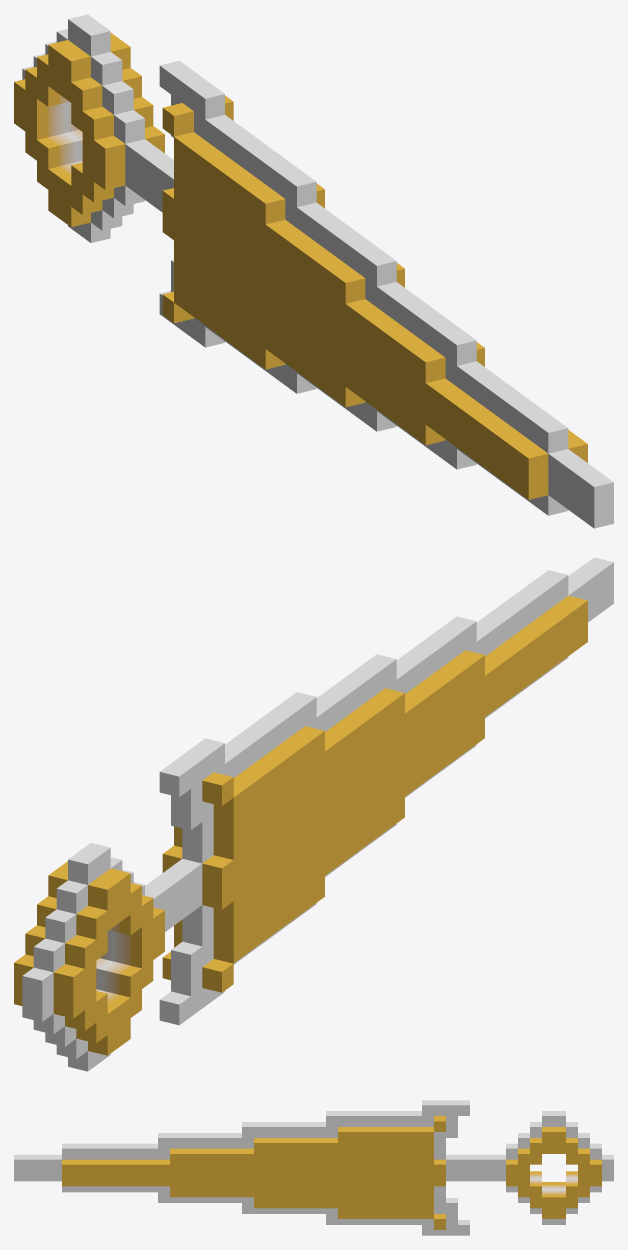
Rendered from Knife_B.fbx.
3 views of the same model, one above another, from view 1: azimuth 30°, elevation 25°; view 2: azimuth 150°, elevation 25°; view 3: azimuth 270°, elevation 25° (orthographic). The views are drawn at different scales.
Parts seen in each view (by area): view 1: Matrix; view 2: Matrix; view 3: Matrix.
Part boxes in pixels (bbox=[...]): Matrix: bbox=[14, 14, 613, 528]; Matrix: bbox=[14, 557, 613, 1071]; Matrix: bbox=[14, 1100, 613, 1235].
Bounding box in the file's own units: 3 × 12 × 50.
Materials: 1 (1 with a texture image).
